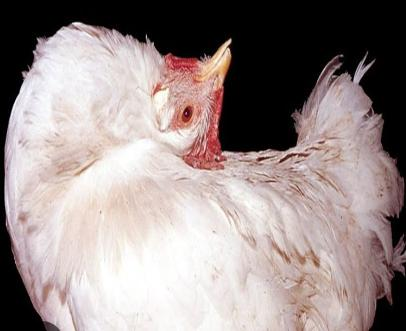AbNormal: (5, 21, 406, 331)
